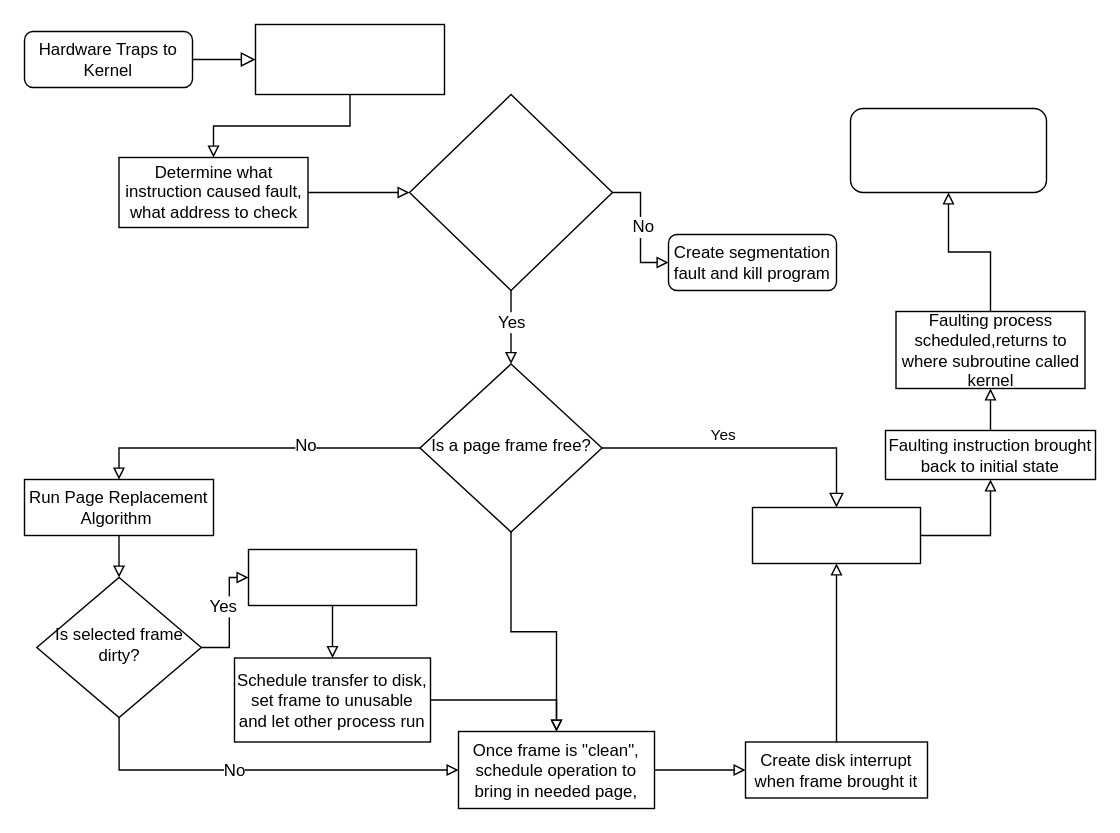
Some shapes in this 1120 by 833 pixel diagram are drawn without their labels. Each missing label, with the box of its shape:
Halt faulting process: (247, 548, 416, 606)
Is a valid address referenced or protection fault created?: (408, 93, 612, 290)
Subroutine loads registers & stateful information, returns to user space: (849, 107, 1046, 192)
Subroutine: Save registers & volatile info to disk: (254, 23, 444, 94)
Update page table: (751, 506, 920, 564)
